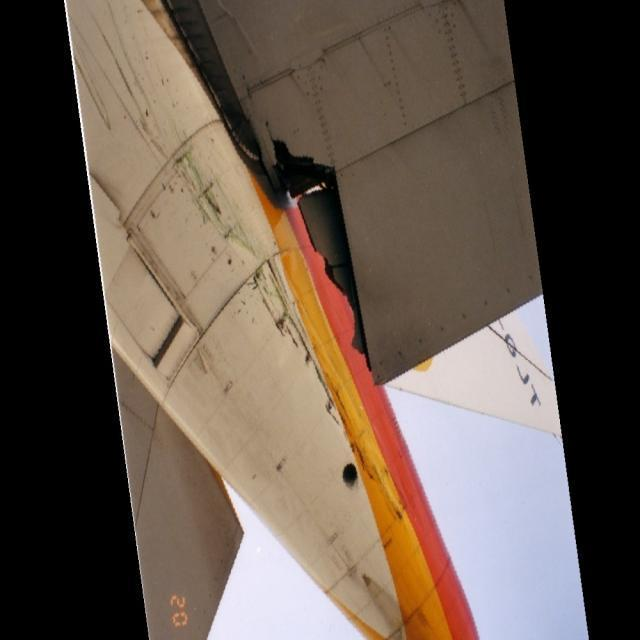crack: (261, 117, 371, 371)
